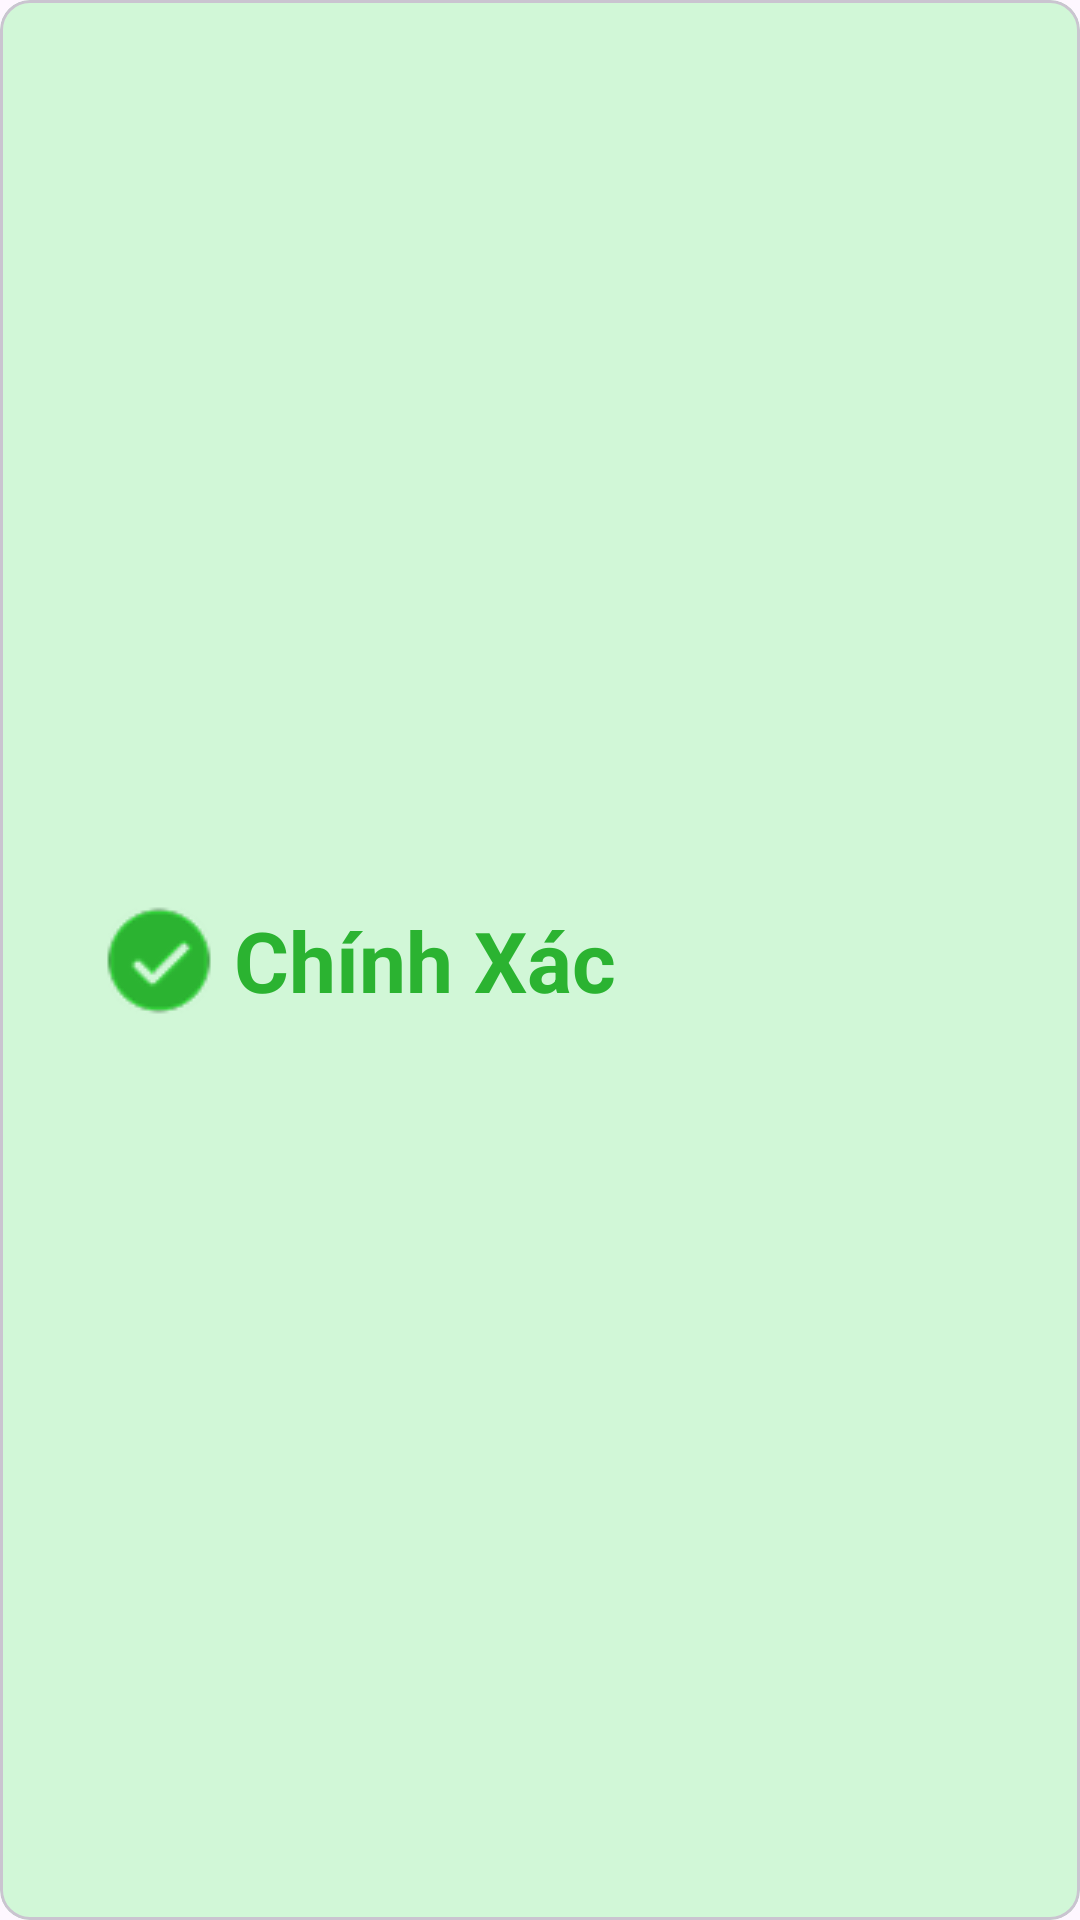

Where icons sit on this 1080w x 1920h app screen, as region(x1, y1, x2, y2):
correct: region(107, 908, 211, 1013)
